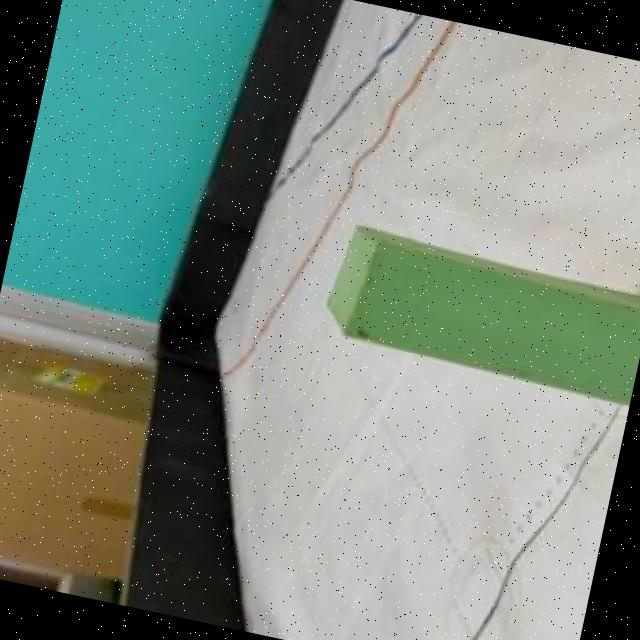greenbox: (310, 221, 640, 410)
